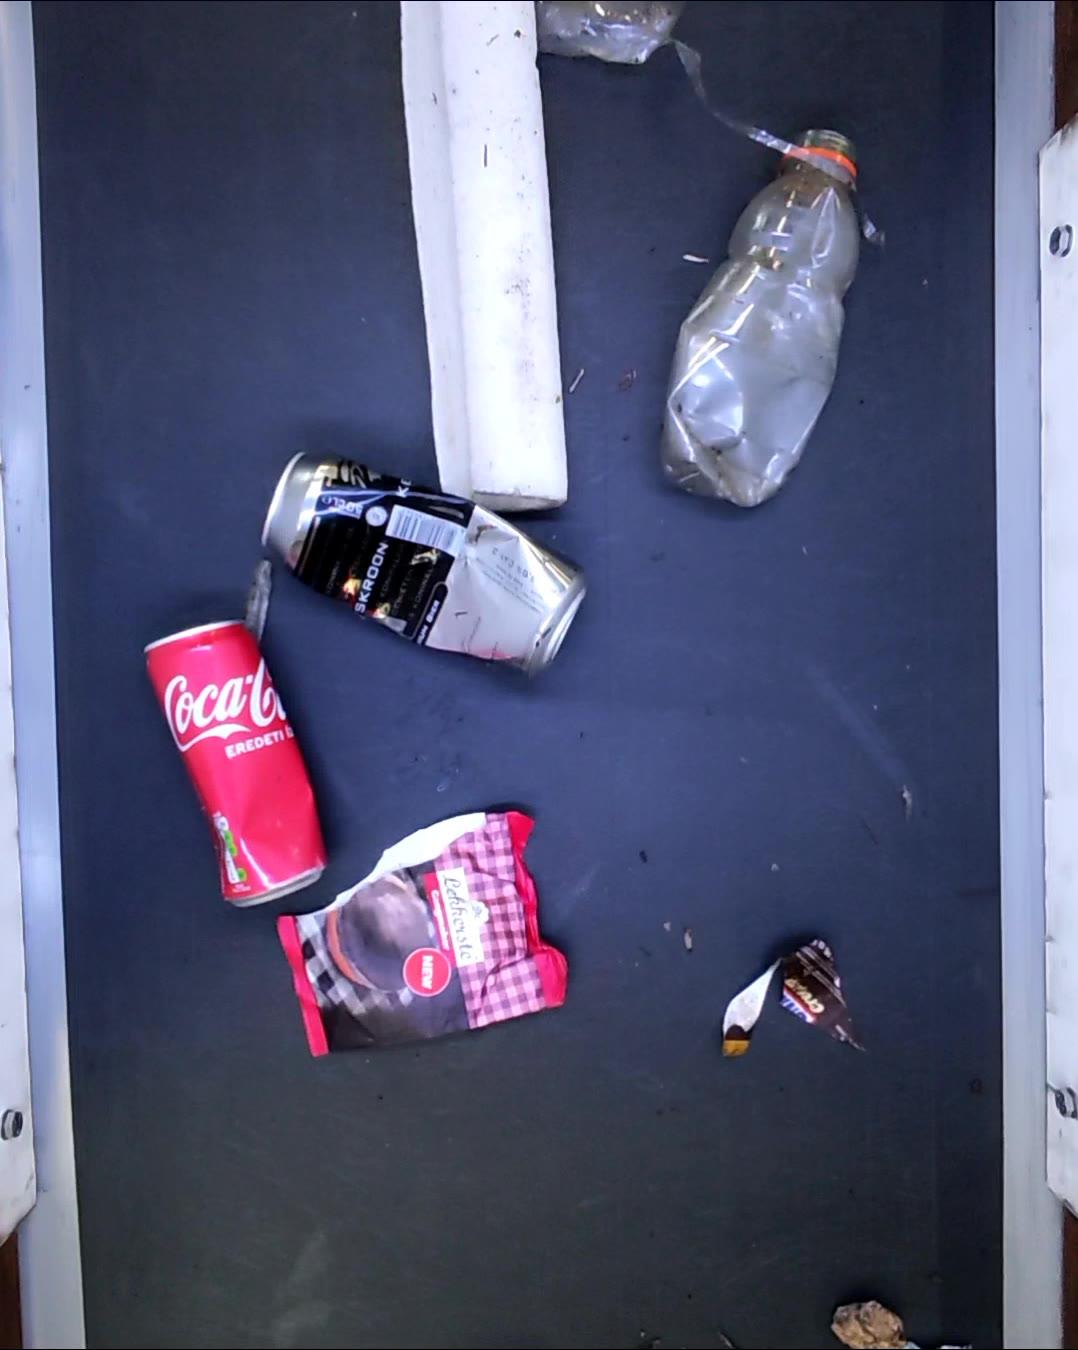Drankblikjes: (266, 450, 586, 676), (153, 618, 322, 906)
Drankflessen - 1-2 liter: (661, 130, 859, 503)
Plastic folies of stukken daarvan 2.5- 50 cm: (533, 0, 700, 70)
Snoep snack en chips verpakkingen: (279, 805, 576, 1060), (723, 944, 867, 1063)
